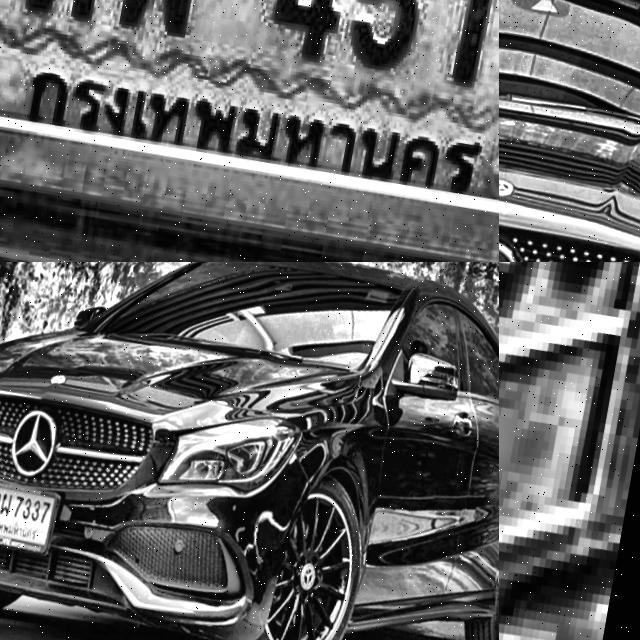license-plate: (0, 0, 499, 262), (499, 262, 640, 640), (0, 478, 59, 554)
